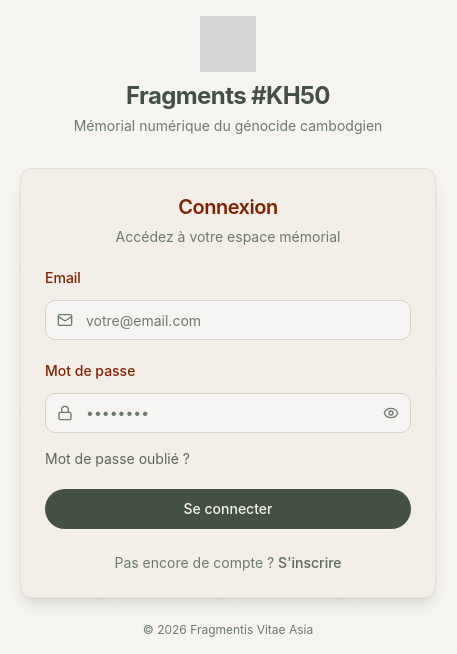
Test: Auth page › switching to forgot-password mode › can navigate back to login from forgot mode
Click the button "Mot de passe oublié ?" at [118, 459], box [45,449,190,469]
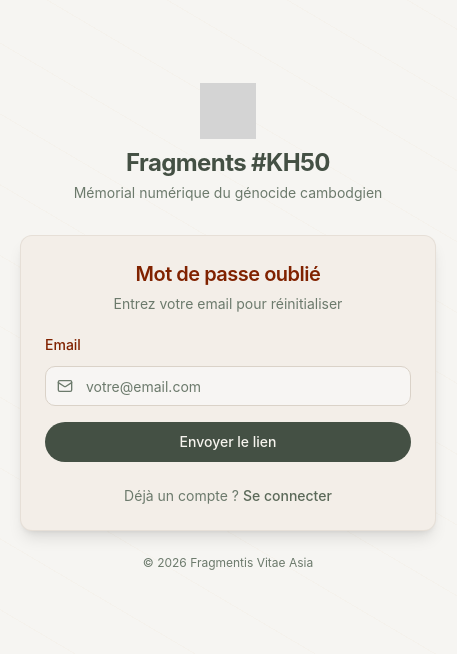
Click the button "Se connecter" at [287, 496], box [243,486,332,506]
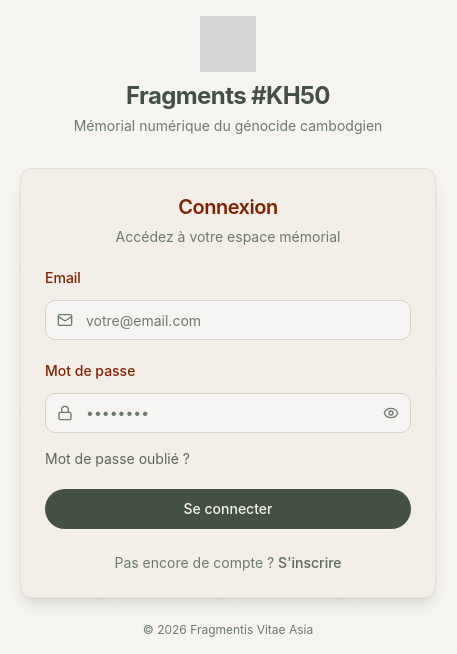
Now the text "Connexion" is shown, box [178,195,278,219]
